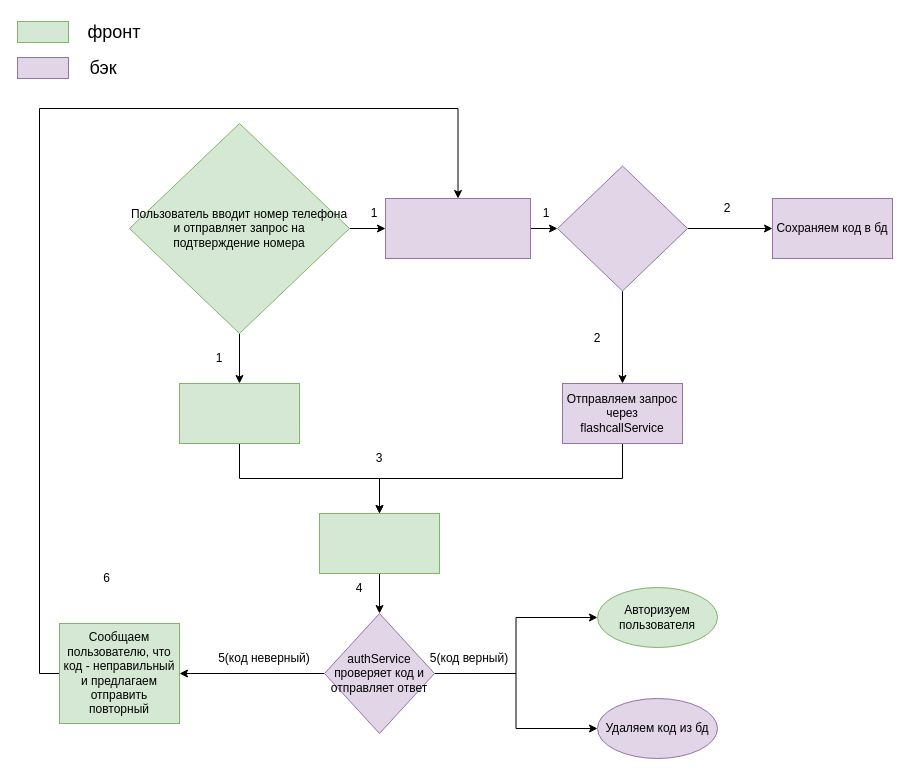
The diagram is 910 pixels wide and 776 high, and some of its shapes have lost their labels. The shapes that lost their labels are listed below. From the top down, each one's box as (x1, y1, x2, y2) in pixels, then its label:
(384, 198, 530, 258): authService обращается к сервису phoneConfirmationService
(556, 165, 688, 291): phoneConfirmation генерирует код подтверждения
(178, 382, 300, 444): Перенаправляем на страницу подтверждения
(318, 512, 440, 574): Пользователь получает код и подтверждает его
